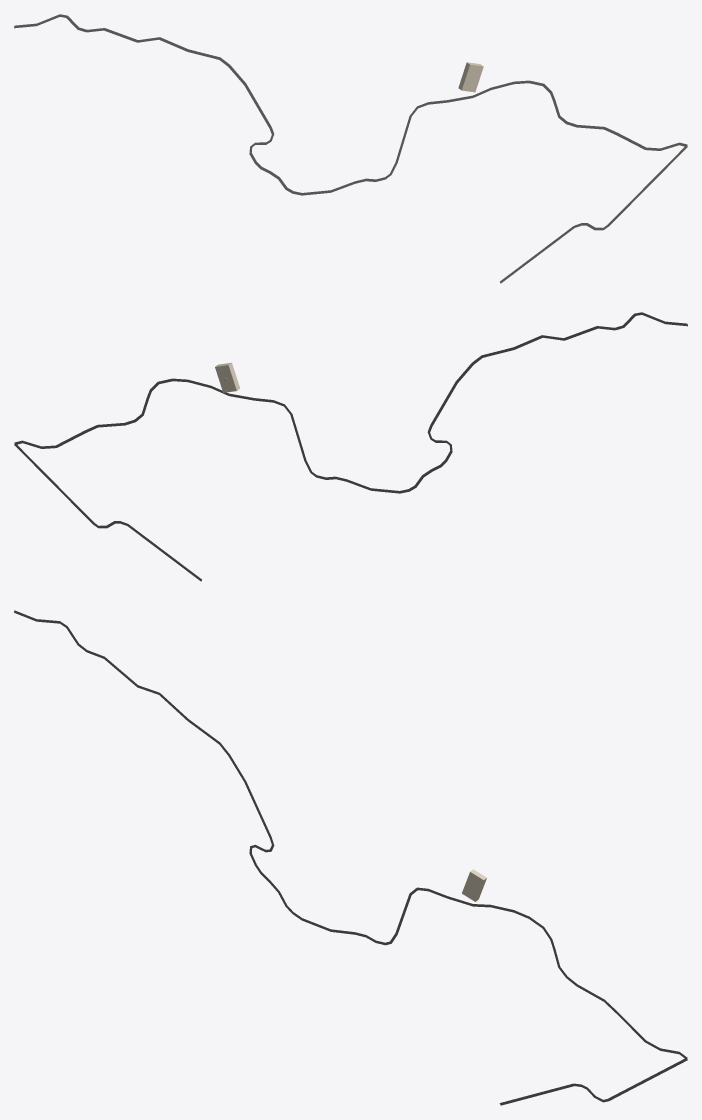
Rendered from historic-palestine-09_26_3511_3207.glb.
The picture shows the model from 3 angles, top to bottom: view 1: azimuth 30°, elevation 25°; view 2: azimuth 150°, elevation 25°; view 3: azimuth 330°, elevation 25°; orthographic projection.
Visible parts, largest first — view 1: Road, Road .001, Building_; view 2: Road, Road .001, Building_; view 3: Road.
Boxes of the visible parts, x1=… form: Road: x1=14, y1=14, x2=687, y2=195; Road .001: x1=500, y1=145, x2=687, y2=283; Building_: x1=458, y1=62, x2=483, y2=92; Road: x1=14, y1=312, x2=687, y2=493; Road .001: x1=14, y1=443, x2=201, y2=581; Building_: x1=215, y1=362, x2=239, y2=392; Road: x1=14, y1=610, x2=687, y2=1059.
Size of the model in its own units: 867 by 463 by 8.7.
